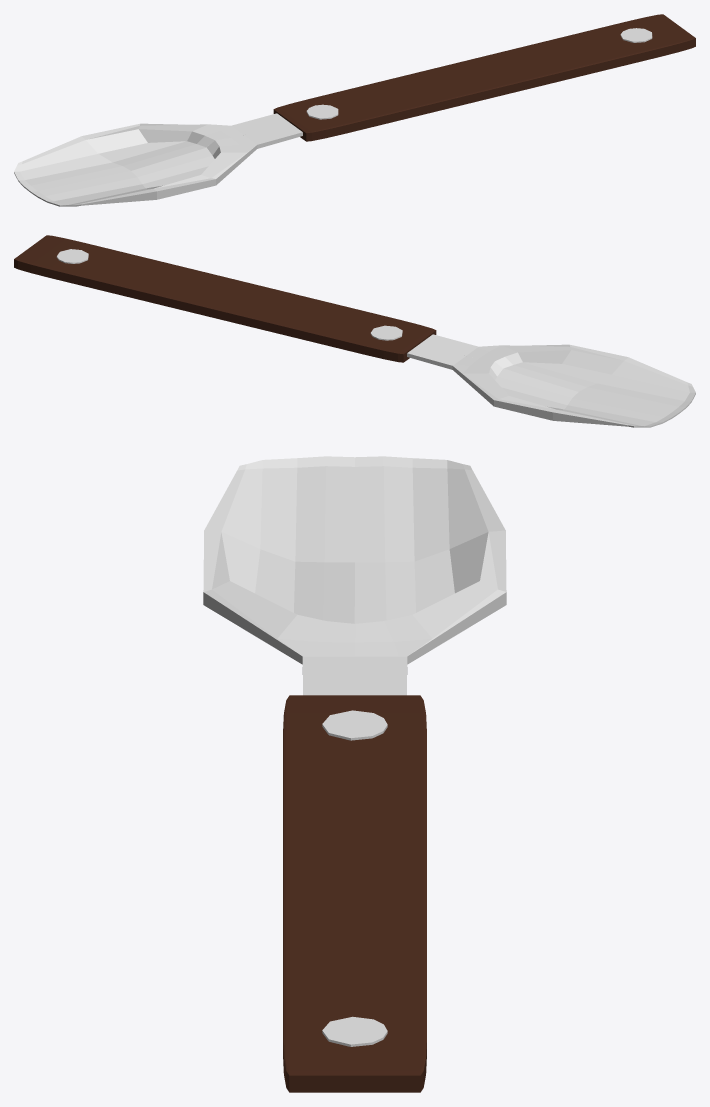
File: Kitchen_SmallProps_Spoon_Big.fbx
3 views of the same model, one above another, from view 1: azimuth 30°, elevation 25°; view 2: azimuth 150°, elevation 25°; view 3: azimuth 270°, elevation 25° (orthographic). The views are drawn at different scales.
Parts seen in each view (by area): view 1: Handle, SpoonBIG, Mutter2.001, Mutter.001; view 2: Handle, SpoonBIG, Mutter.001, Mutter2.001; view 3: SpoonBIG, Handle, Mutter2.001, Mutter.001.
Part boxes in pixels (left/top/right/bottom): Handle: left=273, top=14, right=695, bottom=141; SpoonBIG: left=14, top=113, right=302, bottom=206; Mutter2.001: left=620, top=28, right=652, bottom=42; Mutter.001: left=306, top=104, right=338, bottom=119; Handle: left=14, top=235, right=436, bottom=362; SpoonBIG: left=407, top=334, right=695, bottom=427; Mutter.001: left=370, top=325, right=402, bottom=340; Mutter2.001: left=56, top=249, right=88, bottom=263; SpoonBIG: left=203, top=456, right=506, bottom=695; Handle: left=283, top=695, right=426, bottom=1092; Mutter2.001: left=322, top=1016, right=387, bottom=1046; Mutter.001: left=322, top=710, right=387, bottom=740.
Size of the model in its own units: 23.16 by 0.6143 by 4.68.
